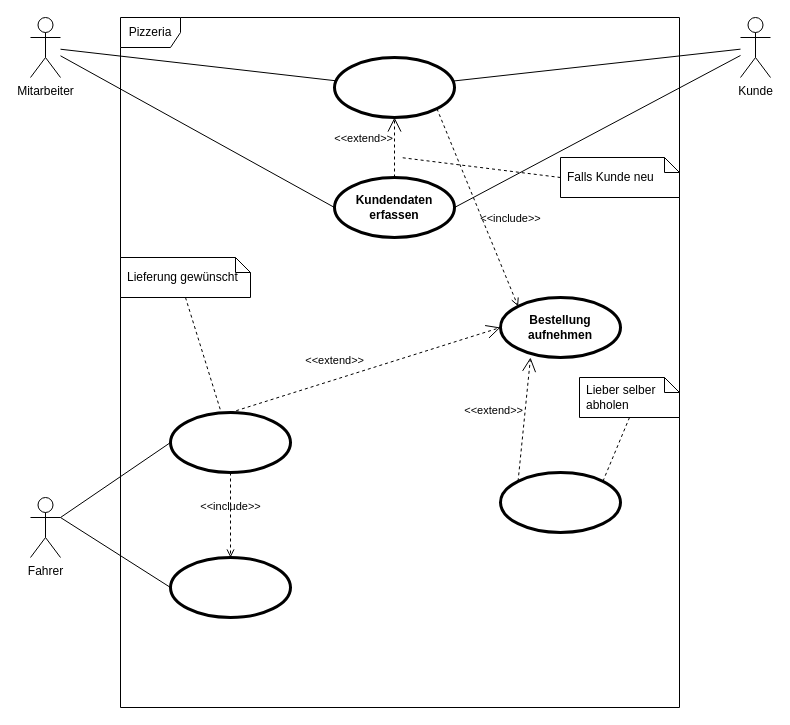
The diagram is 790 pixels wide and 725 high, and some of its shapes have lost their labels. Here are the shapes that lost their labels. From the top down, the centre of each, then its label:
point 394,87: Bestellanruf
point 230,442: Ausliefern
point 560,502: Selbstabholung
point 230,587: SMS senden
